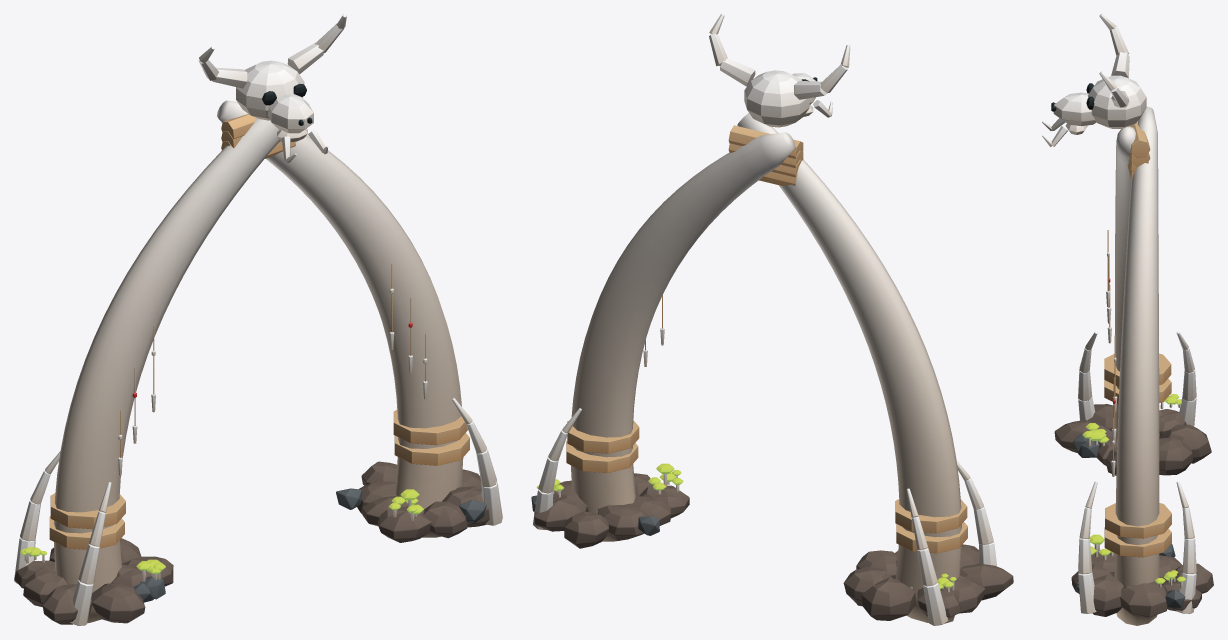
Rendered from bone_gate.glb.
3 renders of one model, left to right at view 1: azimuth 30°, elevation 25°; view 2: azimuth 150°, elevation 25°; view 3: azimuth 270°, elevation 25°, orthographic. The views are drawn at different scales.
Parts seen in each view (by area): view 1: bone_gate; view 2: bone_gate; view 3: bone_gate.
Boxes of the visible parts, bbox=[...] form: bone_gate: bbox=[14, 14, 502, 625]; bone_gate: bbox=[531, 14, 1013, 625]; bone_gate: bbox=[1042, 14, 1213, 625].
Bounding box in the file's own units: 14.02 × 16.17 × 5.06.
Materials: 2 (2 with a texture image).
